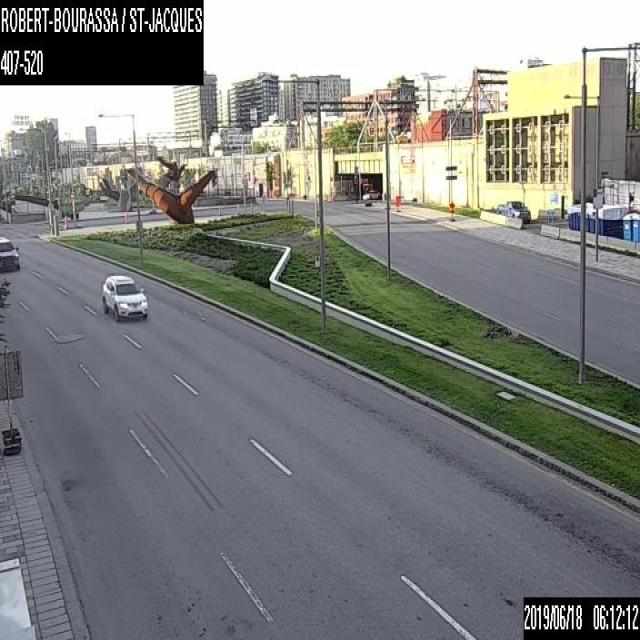construction: (394, 193, 400, 210), (449, 201, 454, 220)
vehicle: (100, 272, 148, 319), (496, 200, 530, 222), (0, 233, 19, 270), (361, 186, 380, 198)
